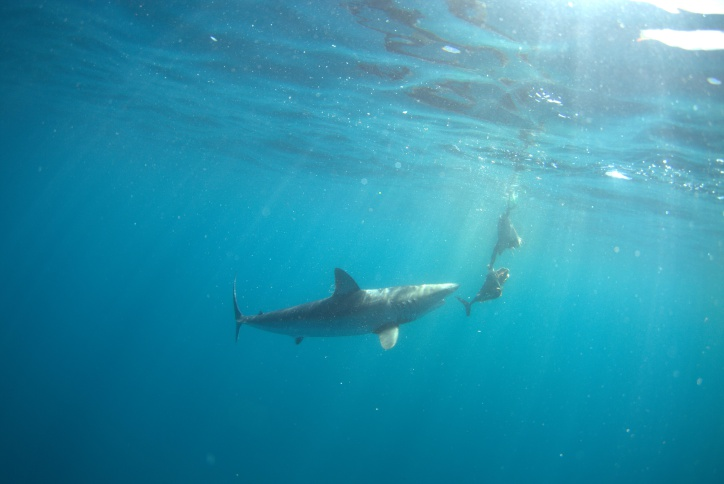Mako: (219, 265, 469, 367)
